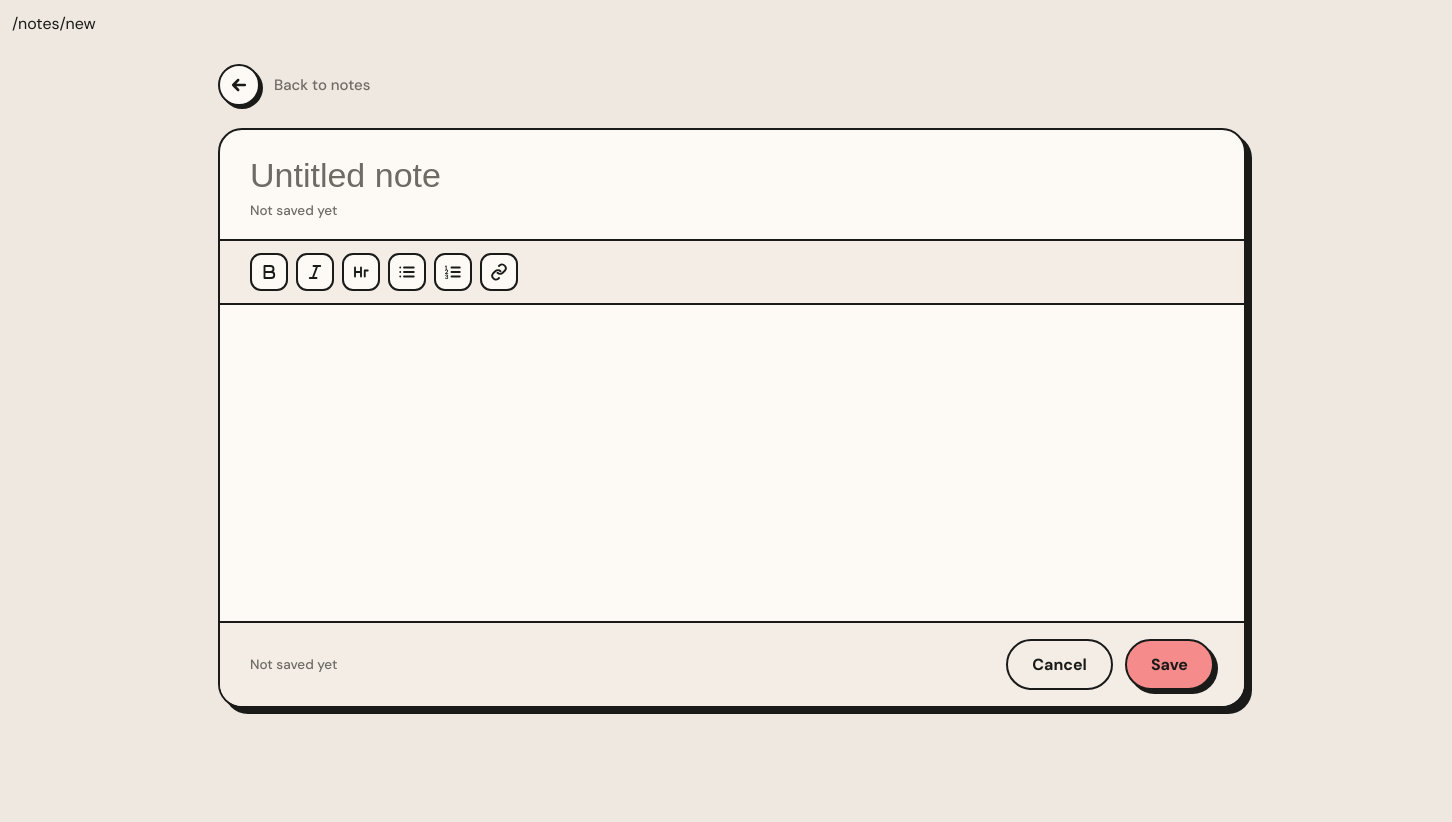
Test: NoteEditorPage › writing a new note › moves to the saved note, so a reload lands on it
Type "Shopping" into the field named "Note title" at (732, 176), box left=250, top=156, right=1214, bottom=195
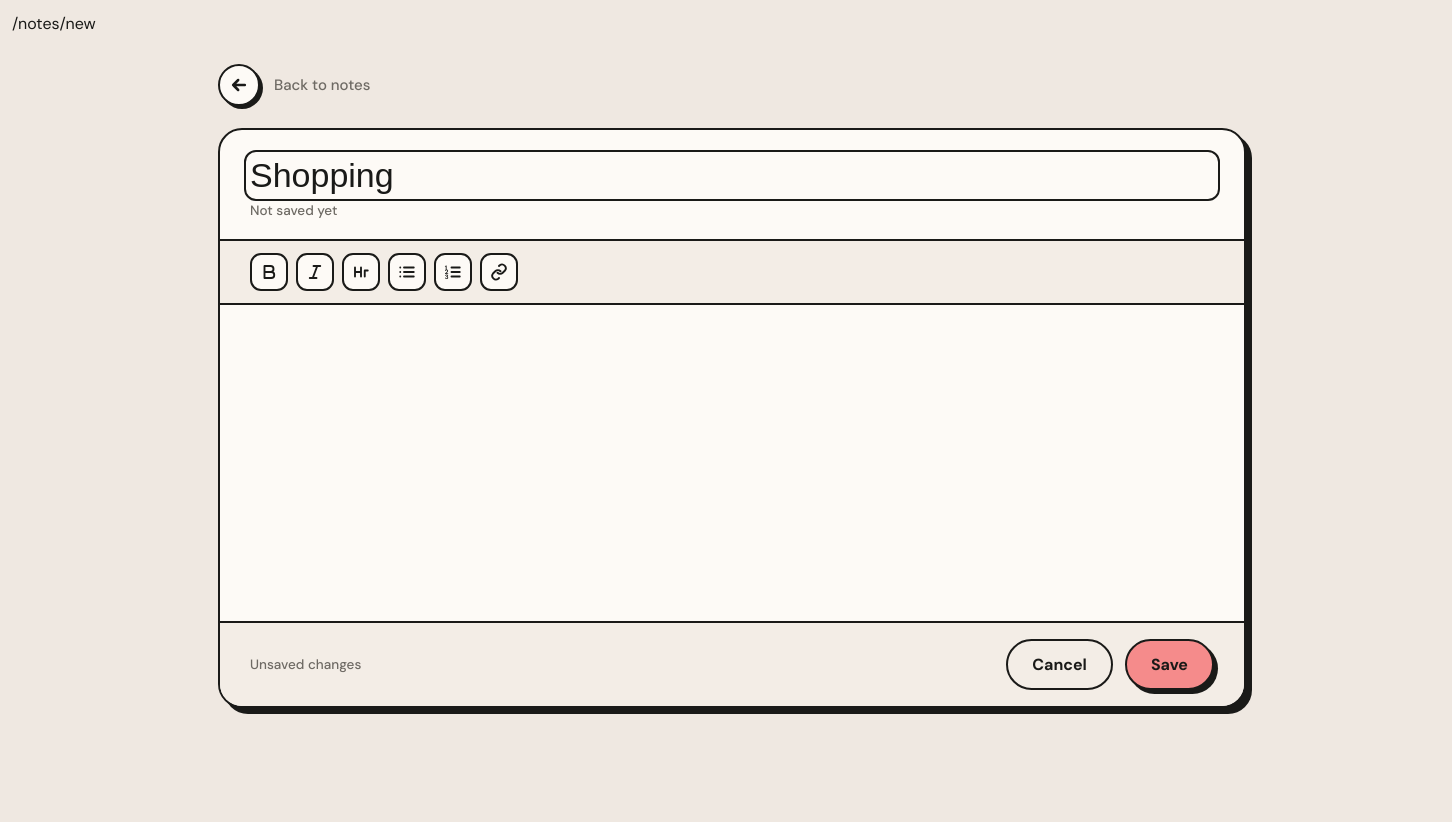
Click the button "Save" at (1169, 665), box left=1125, top=639, right=1214, bottom=690
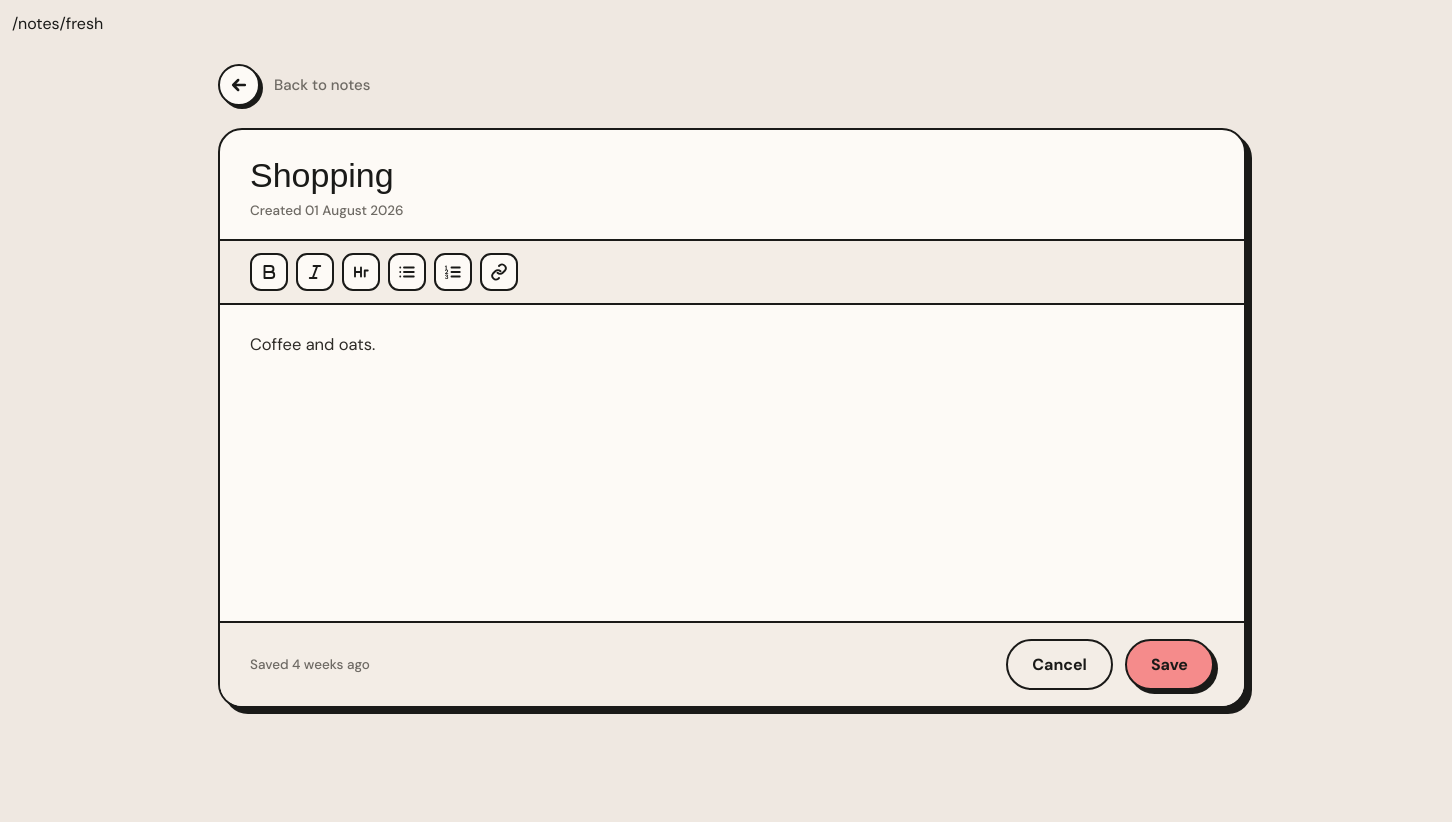
Result: the text with test id "path" reads "/notes/fresh" at left=12, top=13, right=103, bottom=34
